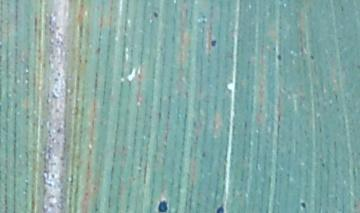tarspot: (155, 195, 172, 213), (297, 197, 310, 212), (209, 33, 219, 51), (213, 202, 228, 213), (274, 51, 284, 64), (151, 9, 161, 21), (308, 53, 317, 64)
